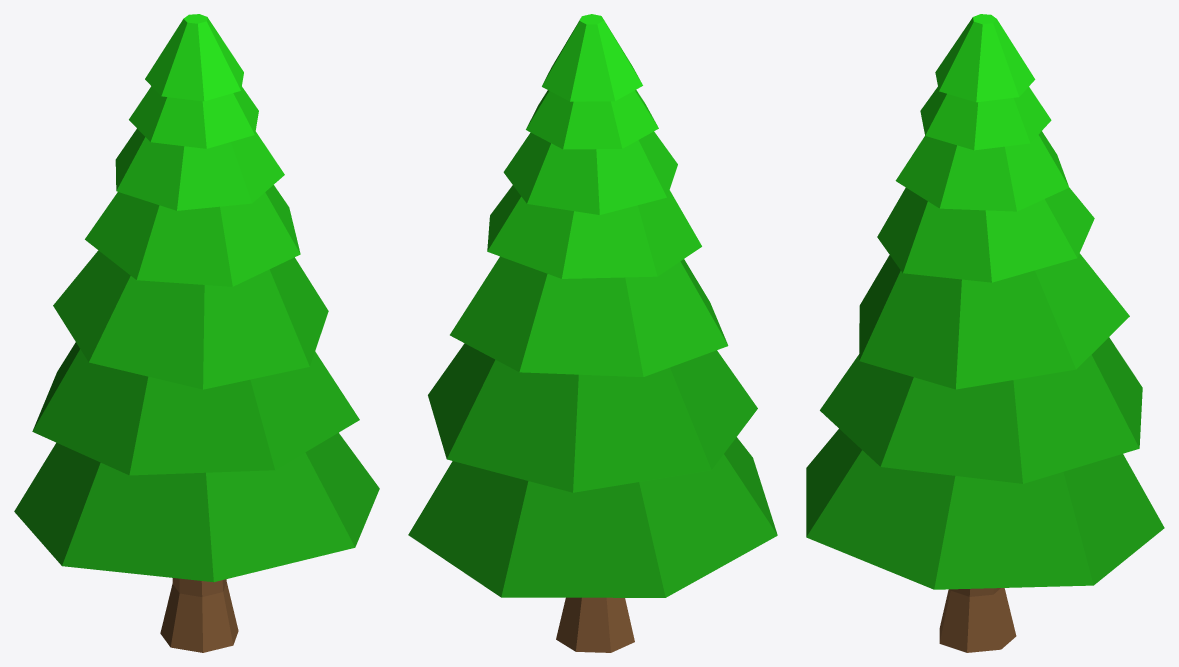
The model's file is tree_pine_b.glb.
3 renders of one model, left to right at view 1: azimuth 30°, elevation 25°; view 2: azimuth 150°, elevation 25°; view 3: azimuth 270°, elevation 25°, orthographic.
Bounding box in the file's own units: 13.14 × 24.27 × 12.77.
1 material, 1 textured.
